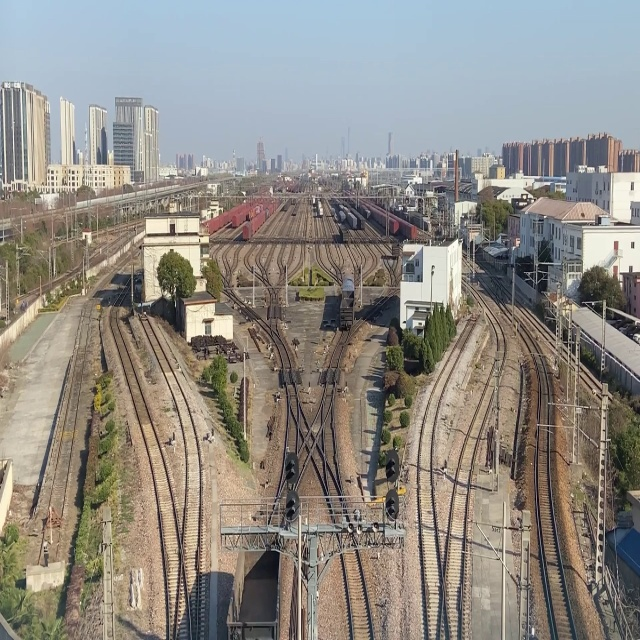train: (332, 273, 357, 328)
